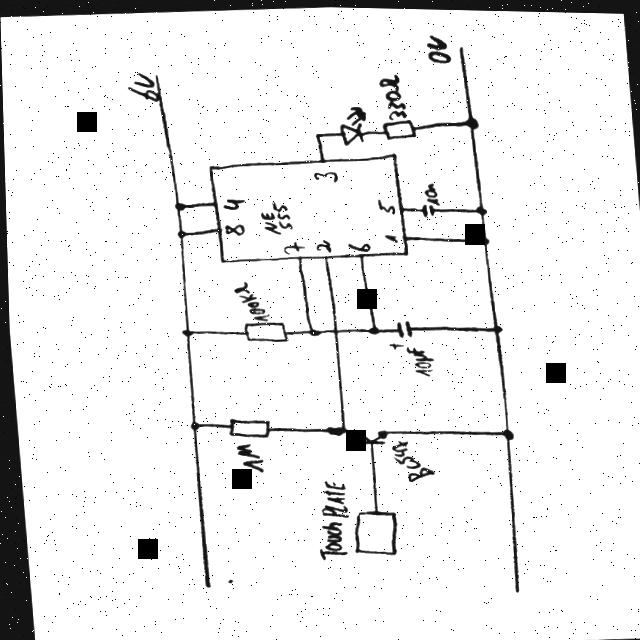capacitor: (384, 317, 413, 348), (418, 198, 434, 216)
crossover: (328, 323, 338, 333)
diode: (336, 103, 369, 145)
junction: (324, 422, 346, 434), (464, 114, 479, 127), (499, 425, 513, 438), (474, 202, 488, 213), (305, 325, 320, 334), (365, 324, 378, 333), (179, 326, 192, 335), (477, 233, 489, 242), (187, 420, 199, 429), (175, 228, 187, 237), (173, 201, 185, 210), (490, 322, 501, 331), (313, 130, 321, 136)
resistor: (239, 318, 289, 342), (225, 415, 270, 438), (380, 117, 417, 138)
terminal: (348, 507, 398, 554), (453, 41, 468, 53), (200, 577, 210, 587), (151, 70, 162, 79), (510, 583, 516, 590)
text: (310, 477, 350, 559), (387, 437, 433, 481), (231, 278, 270, 321), (377, 71, 407, 118), (257, 198, 293, 235), (402, 342, 435, 376), (124, 71, 159, 102), (233, 440, 263, 472), (425, 32, 452, 62), (422, 179, 440, 204), (312, 167, 339, 183), (279, 238, 305, 254), (220, 196, 245, 209), (376, 196, 395, 213), (313, 236, 332, 252), (345, 239, 370, 251), (222, 222, 244, 235), (382, 230, 399, 241)
transistor: (345, 425, 388, 444)
